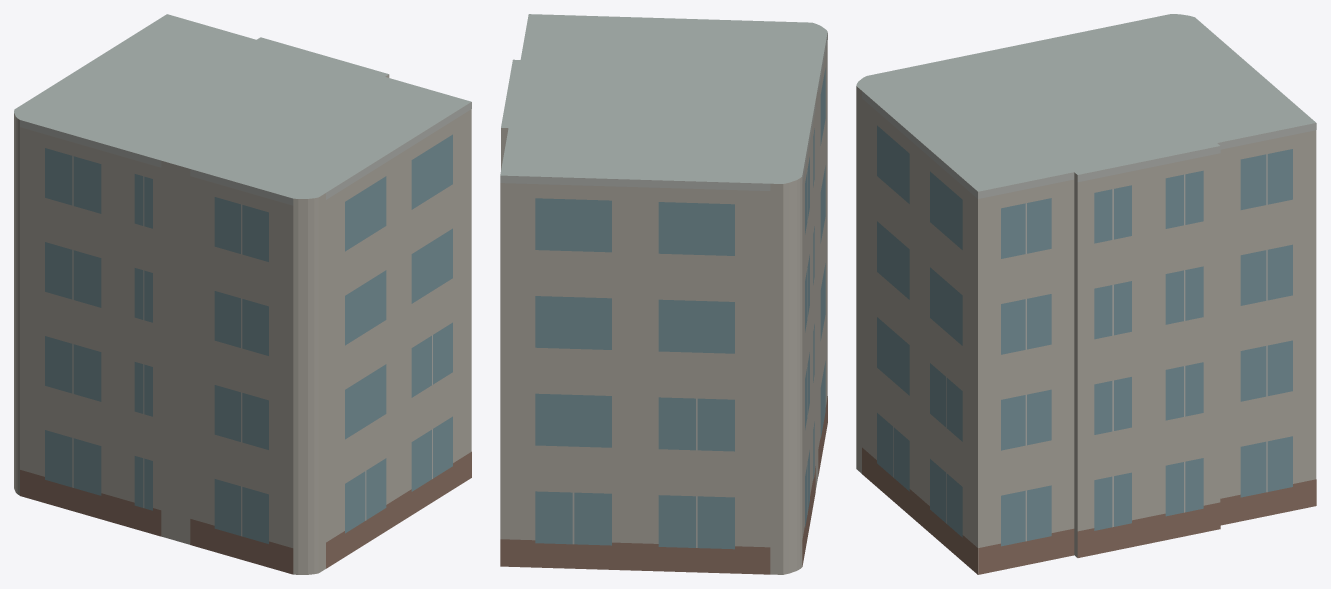
The model's file is survey-upis-32743208.glb.
3 renders of one model, left to right at view 1: azimuth 30°, elevation 25°; view 2: azimuth 150°, elevation 25°; view 3: azimuth 270°, elevation 25°, orthographic. The views are drawn at different scales.
Parts seen in each view (by area): view 1: survey-upis-32743208.tmp; view 2: survey-upis-32743208.tmp; view 3: survey-upis-32743208.tmp.
Boxes of the visible parts, x1,y1,x2,y2 form: survey-upis-32743208.tmp: (14, 14, 471, 574); survey-upis-32743208.tmp: (500, 14, 827, 574); survey-upis-32743208.tmp: (856, 14, 1316, 574).
Bounding box in the file's own units: 12.75 × 12.8 × 13.94.
